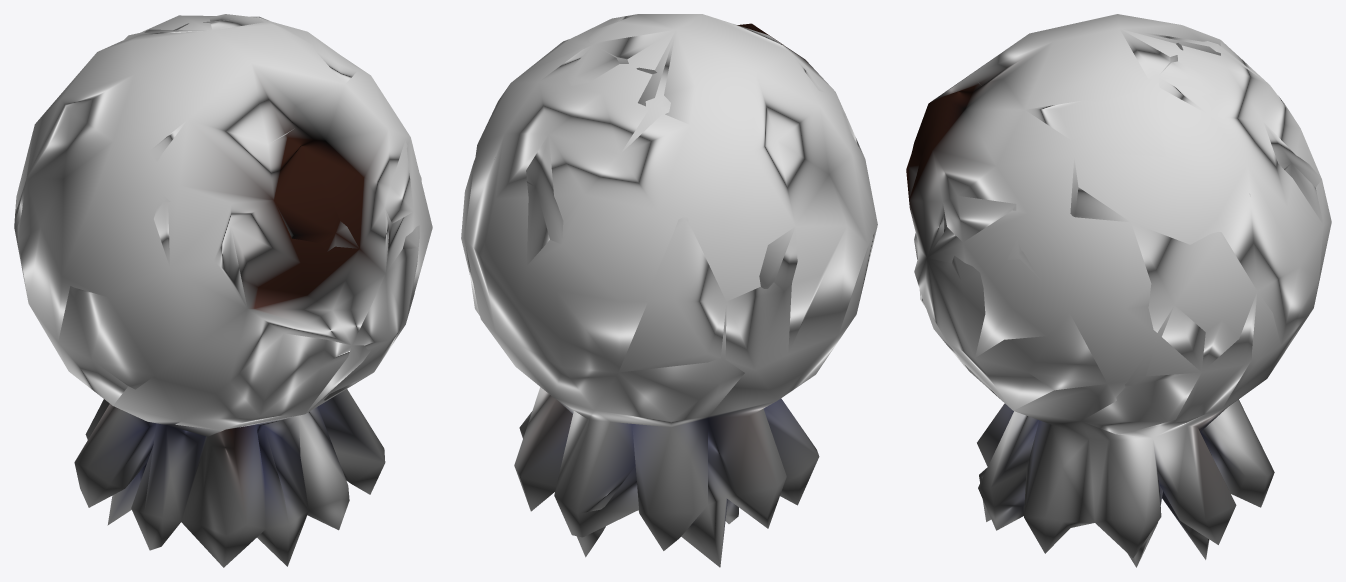
File: gen3d-floating-eye-lod1.glb
The picture shows the model from 3 angles, left to right: view 1: azimuth 30°, elevation 25°; view 2: azimuth 150°, elevation 25°; view 3: azimuth 270°, elevation 25°; orthographic projection.
Parts seen in each view (by area): view 1: part_0; view 2: part_0; view 3: part_0.
Part boxes in pixels (<box>): part_0: <box>14,14,432,567</box>; part_0: <box>461,14,877,567</box>; part_0: <box>906,14,1331,567</box>.
Bounding box in the file's own units: 0.75 × 1 × 0.7581.
